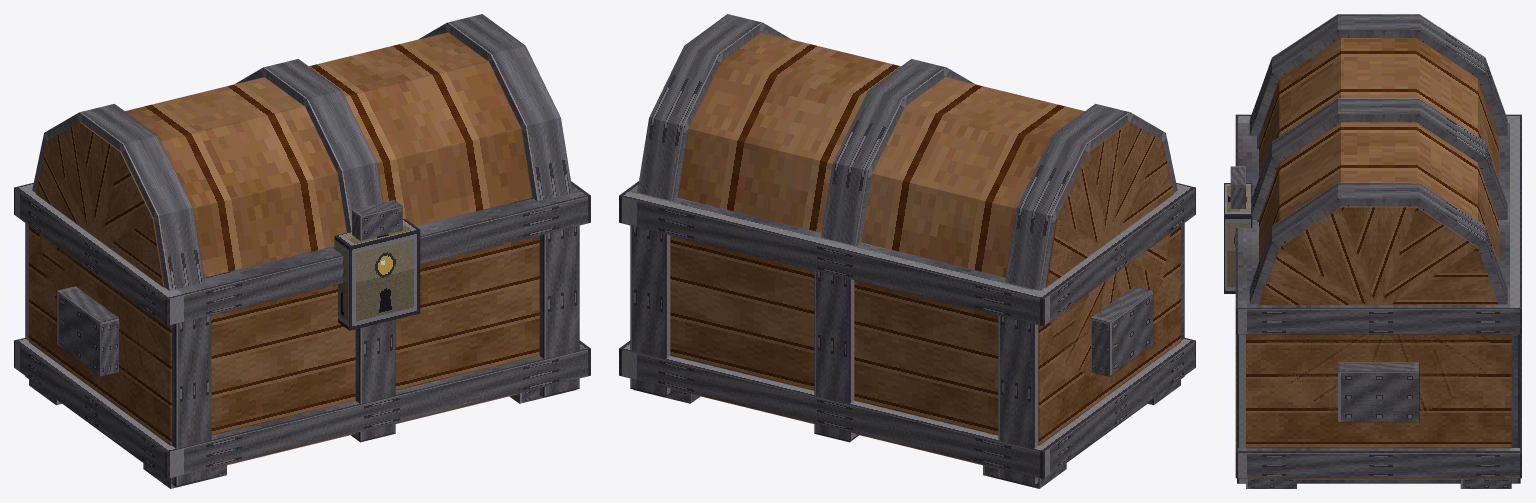
Rendered from mina_bau.glb.
3 renders of one model, left to right at view 1: azimuth 30°, elevation 25°; view 2: azimuth 150°, elevation 25°; view 3: azimuth 270°, elevation 25°, orthographic. The views are drawn at different scales.
Parts seen in each view (by area): view 1: mina_bau; view 2: mina_bau; view 3: mina_bau.
Boxes of the visible parts, box(x1,y1,x2,y2) form: mina_bau: box(14, 14, 590, 488); mina_bau: box(619, 14, 1195, 488); mina_bau: box(1224, 14, 1521, 488).
Bounding box in the file's own units: 0.95 × 0.6254 × 0.5825.
1 material, 1 textured.
